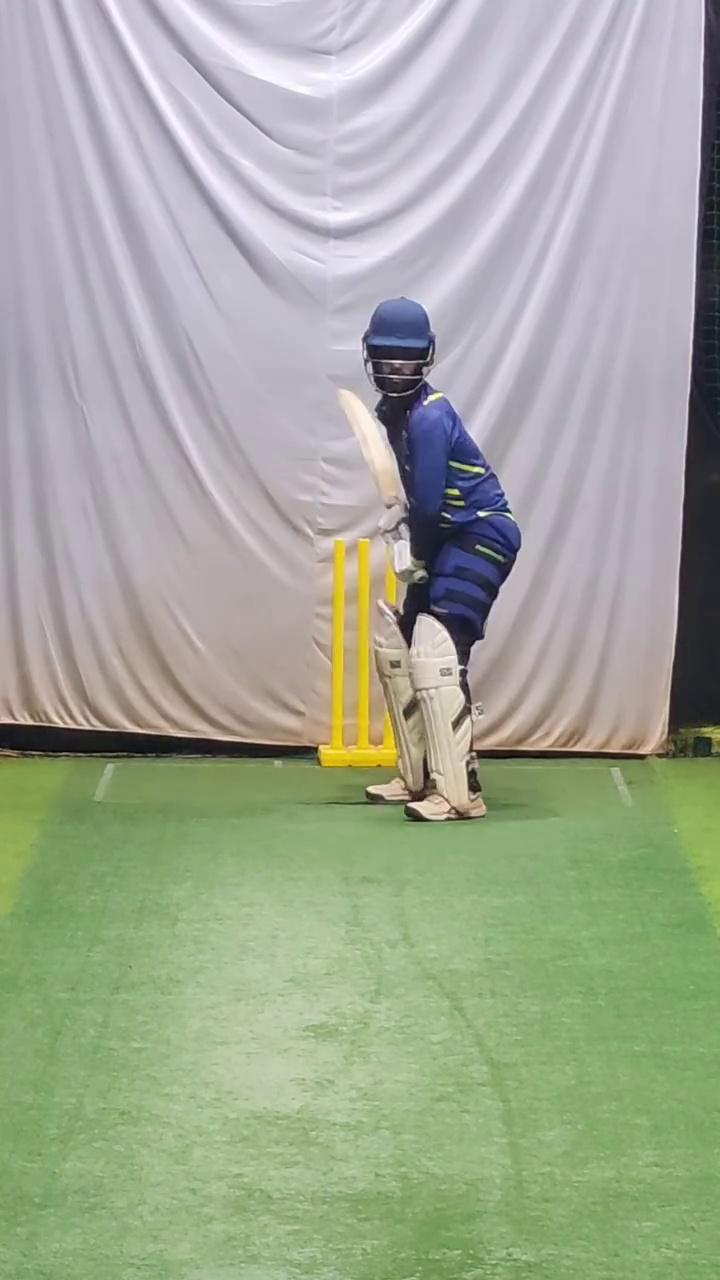bat: (331, 377, 411, 509)
